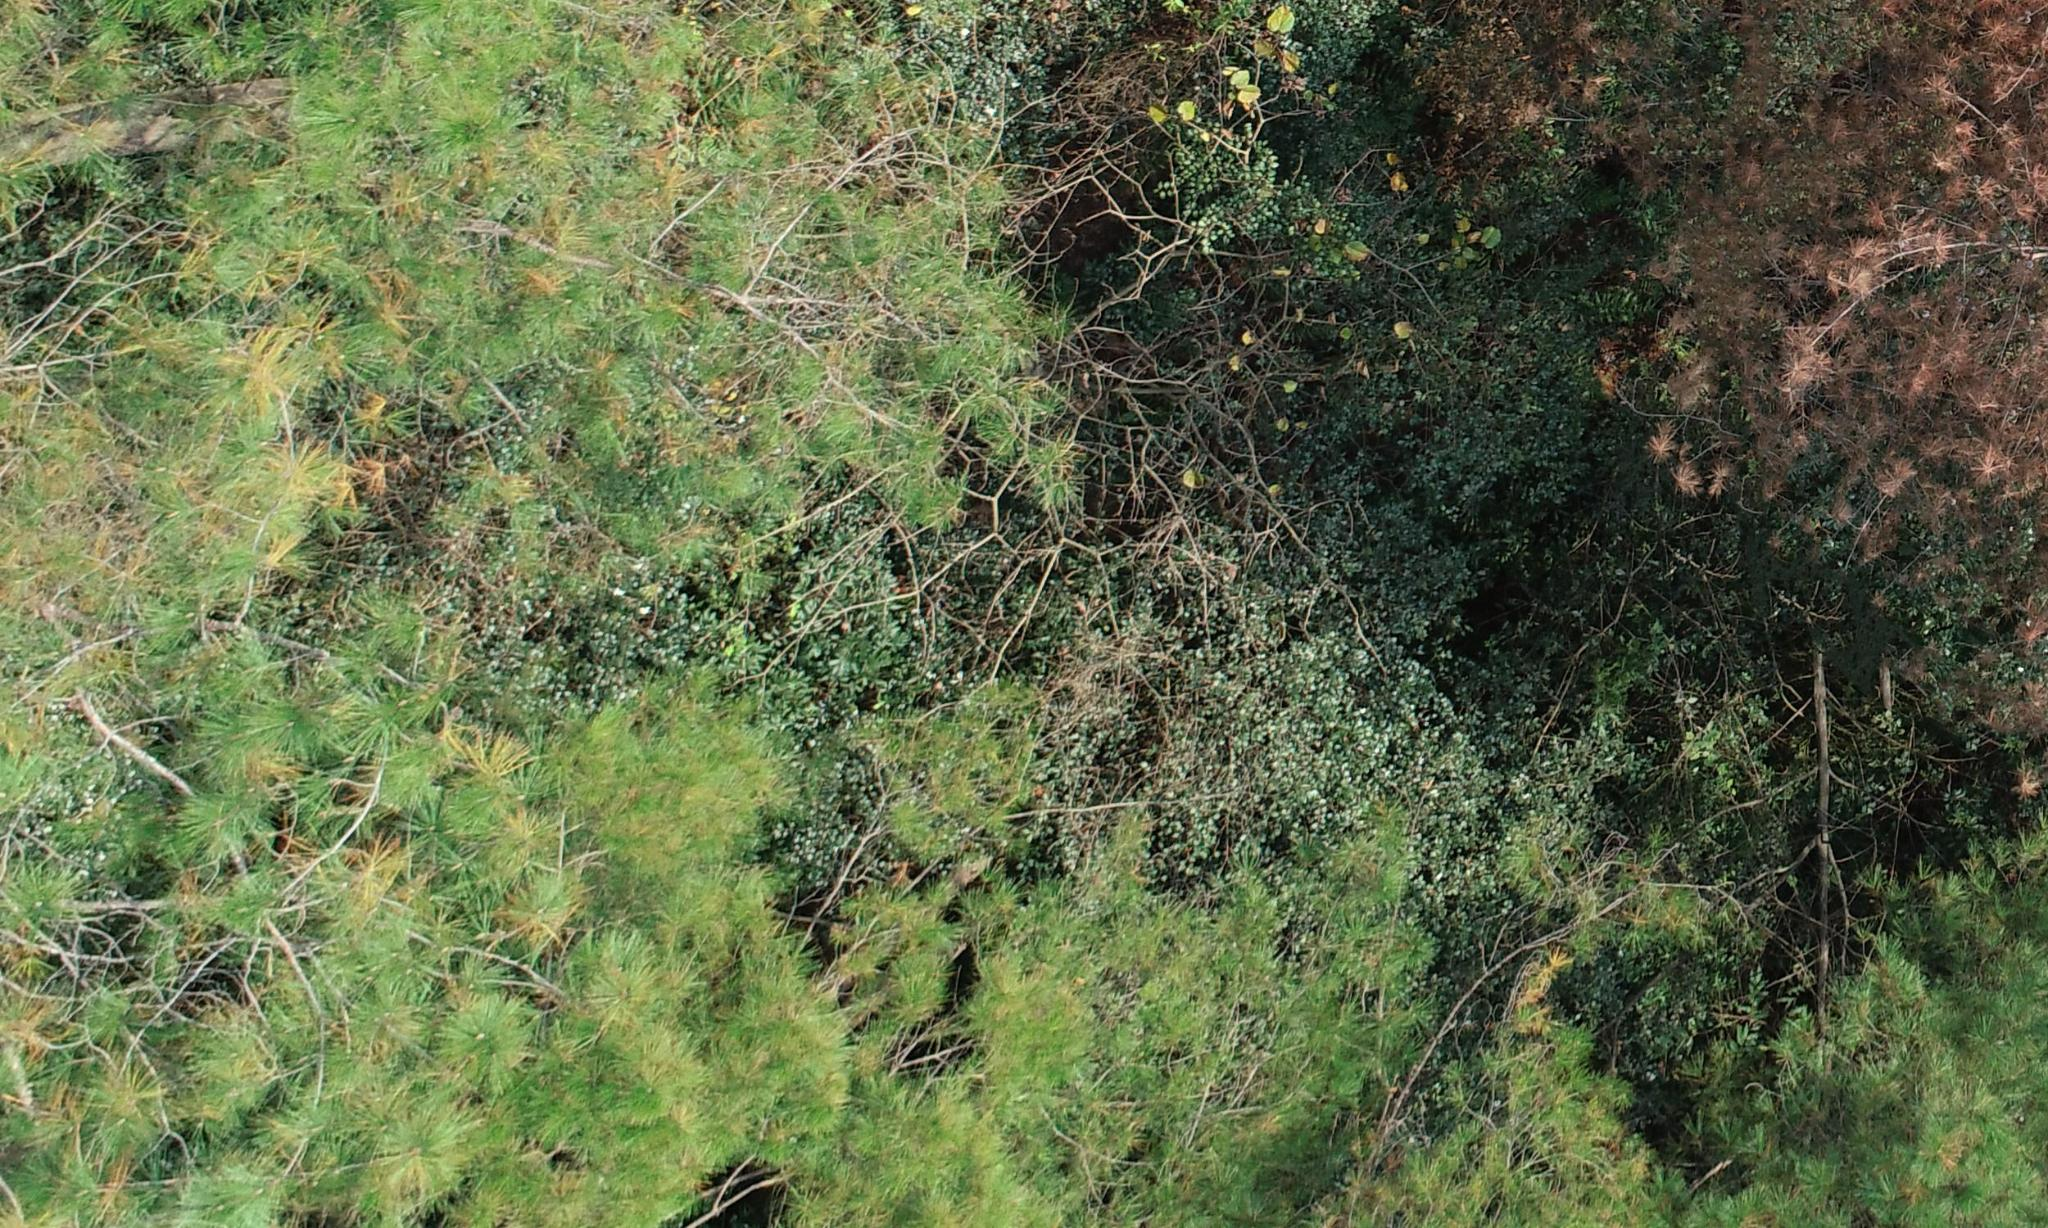heavy: (1418, 7, 2047, 636)
